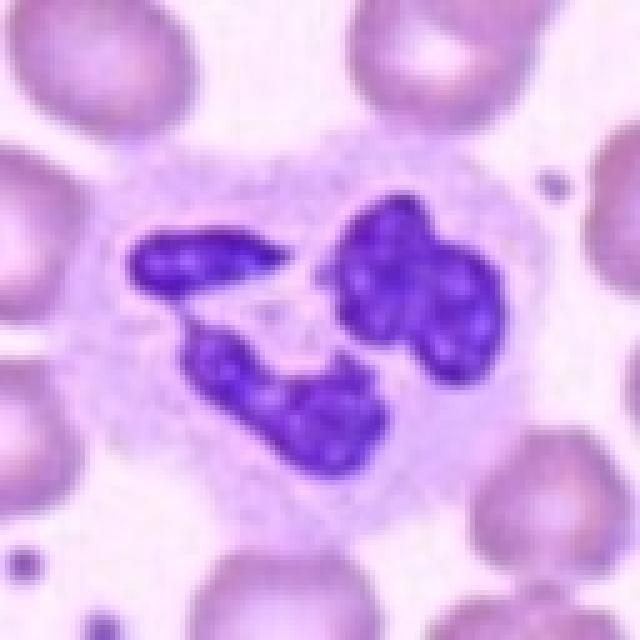neutro: (25, 116, 610, 529)
